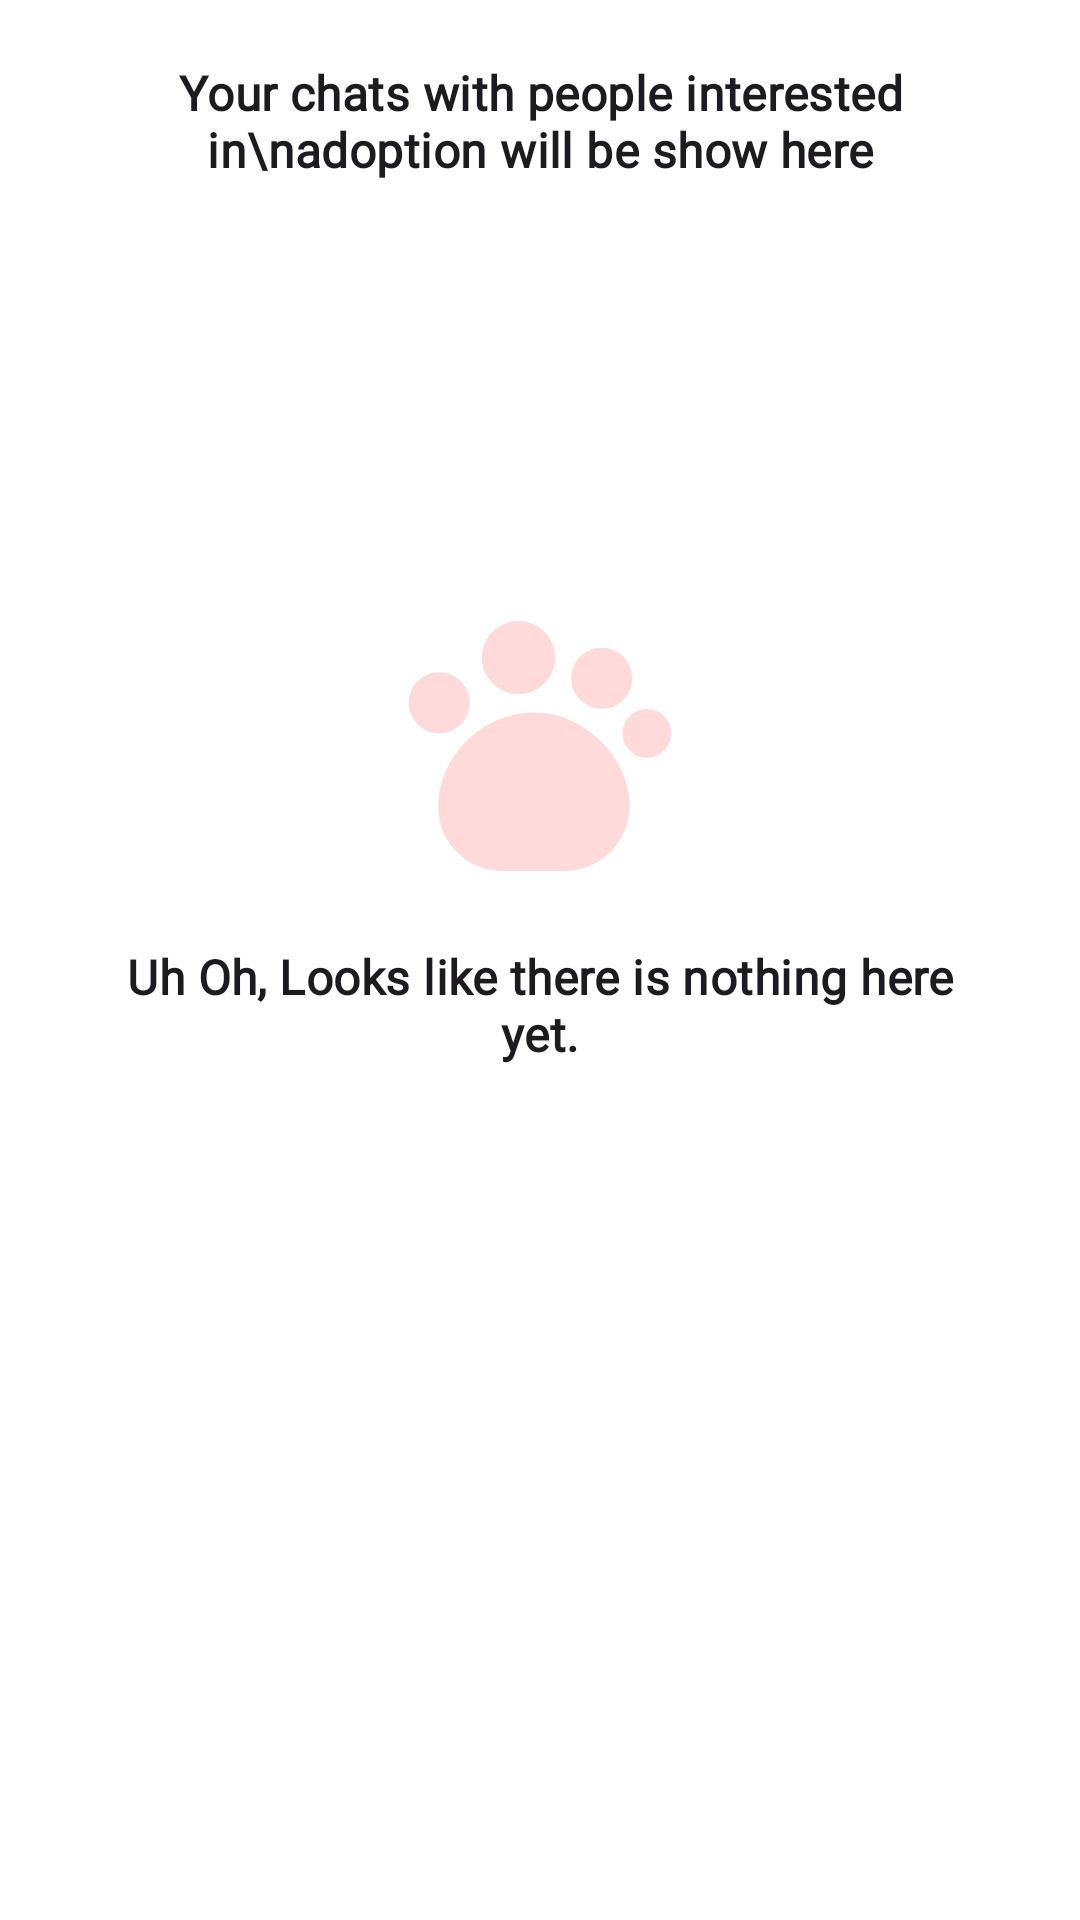

Icon click points for this 1080×1920 phone screenshot, format (x,y):
pet: (540,746)
